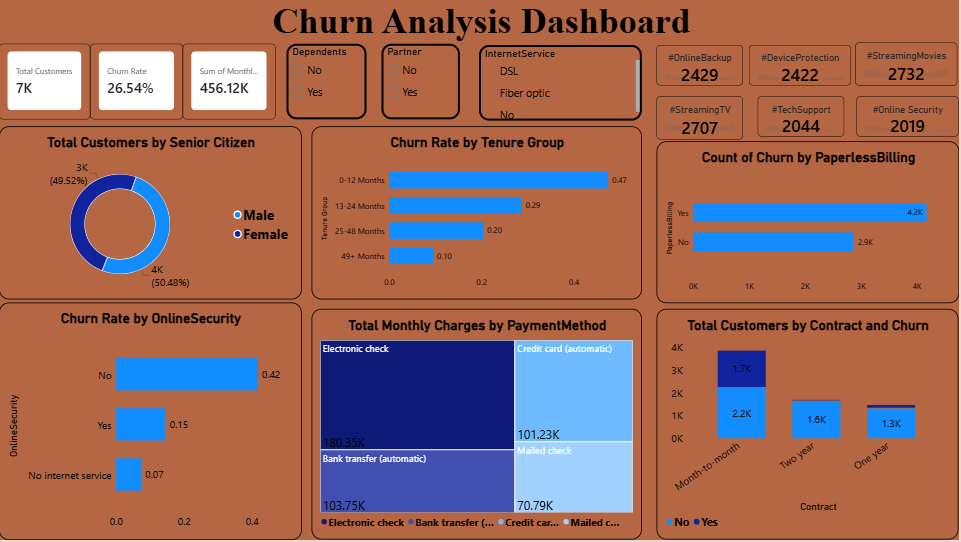

This screenshot's page, from the dashboard's own definition file:
{"tool":"powerbi","page":{"name":"Page 2","canvas":[1920,1080],"ordinal":1},"visuals":[{"type":"textbox","box":[9.2,0,1910.4,88.3],"z":0},{"type":"clusteredBarChart","fields":{"Category":["Telco-Customer-Churn.PaperlessBilling"],"Y":["CountNonNull(Telco-Customer-Churn.Churn)"]},"box":[1314.1,281.6,605.5,323.9],"z":1000},{"type":"columnChart","fields":{"Category":["Telco-Customer-Churn.Contract"],"Series":["Telco-Customer-Churn.Churn"],"Y":["Telco-Customer-Churn.Total Customers"]},"box":[1314.1,618.4,603.7,462],"z":2000},{"type":"barChart","fields":{"Category":["Telco-Customer-Churn.OnlineSecurity"],"Y":["Telco-Customer-Churn.Churn Rate"]},"box":[0,605.5,605.5,474.8],"z":3000},{"type":"donutChart","title":"Total Customers by Senior Citizen","fields":{"Category":["Telco-Customer-Churn.gender"],"Y":["Telco-Customer-Churn.Total Customers"]},"box":[0,252.1,605.5,346],"z":4000},{"type":"slicer","fields":{"Values":["Telco-Customer-Churn.Partner"]},"box":[763.8,88.3,156.4,150.9],"z":5000},{"type":"slicer","fields":{"Values":["Telco-Customer-Churn.InternetService"]},"box":[960.7,90.2,325.8,150.9],"z":6000},{"type":"slicer","fields":{"Values":["Telco-Customer-Churn.Dependents"]},"box":[574.2,88.3,160.1,150.9],"z":7000},{"type":"clusteredBarChart","fields":{"Category":["Telco-Customer-Churn.Tenure Group"],"Y":["Telco-Customer-Churn.Churn Rate"]},"box":[625.8,252.1,660.7,346],"z":8000},{"type":"treemap","fields":{"Group":["Telco-Customer-Churn.PaymentMethod"],"Values":["Telco-Customer-Churn.Total Monthly Charges"]},"box":[625.8,618.4,660.7,462],"z":9000},{"type":"cardVisual","fields":{"Data":["Telco-Customer-Churn.Total Customers"]},"box":[0,88.3,182.2,150.9],"z":10000},{"type":"cardVisual","fields":{"Data":["Sum(Telco-Customer-Churn.MonthlyCharges)"]},"box":[368.1,88.3,185.9,150.9],"z":11000},{"type":"cardVisual","fields":{"Data":["Telco-Customer-Churn.Churn Rate"]},"box":[182.2,88.3,185.9,150.9],"z":12000},{"type":"kpi","title":"#Online Security","fields":{"Indicator":["Telco-Customer-Churn.Total Customers"],"TrendLine":["Telco-Customer-Churn.OnlineSecurity"]},"box":[1715.3,191.4,204.3,81],"z":13000},{"type":"kpi","title":"#StreamingTV","fields":{"Indicator":["Telco-Customer-Churn.Total Customers"],"TrendLine":["Telco-Customer-Churn.StreamingTV"]},"box":[1314.1,191.4,173,86.5],"z":14000},{"type":"kpi","title":"#StreamingMovies","fields":{"Indicator":["Telco-Customer-Churn.Total Customers"],"TrendLine":["Telco-Customer-Churn.StreamingMovies"]},"box":[1713.5,84.7,204.3,86.5],"z":15000},{"type":"kpi","title":"#DeviceProtection","fields":{"Indicator":["Telco-Customer-Churn.Total Customers"],"TrendLine":["Telco-Customer-Churn.DeviceProtection"]},"box":[1500,90.2,204.3,81],"z":16000},{"type":"kpi","title":"#OnlineBackup","fields":{"Indicator":["Telco-Customer-Churn.Total Customers"],"TrendLine":["Telco-Customer-Churn.OnlineBackup"]},"box":[1314.1,90.2,173,81],"z":17000},{"type":"kpi","title":"#TechSupport","fields":{"Indicator":["Telco-Customer-Churn.Total Customers"],"TrendLine":["Telco-Customer-Churn.TechSupport"]},"box":[1516.6,191.4,173,81],"z":18000}]}

Visuals, with their boxes in screenshot pixels (x1, y1, x2, y2), scaled from the page's 1920x1080 canvas onto the 961x542 screenshot:
textbox: x1=5, y1=0, x2=960, y2=44
clusteredBarChart - Telco-Customer-Churn.PaperlessBilling x CountNonNull(Telco-Customer-Churn.Churn): x1=658, y1=141, x2=960, y2=304
columnChart - Telco-Customer-Churn.Contract x Telco-Customer-Churn.Churn: x1=658, y1=310, x2=960, y2=541
barChart - Telco-Customer-Churn.OnlineSecurity x Telco-Customer-Churn.Churn Rate: x1=0, y1=304, x2=303, y2=541
"Total Customers by Senior Citizen" donutChart: x1=0, y1=127, x2=303, y2=300
slicer - Telco-Customer-Churn.Partner: x1=382, y1=44, x2=461, y2=120
slicer - Telco-Customer-Churn.InternetService: x1=481, y1=45, x2=644, y2=121
slicer - Telco-Customer-Churn.Dependents: x1=287, y1=44, x2=368, y2=120
clusteredBarChart - Telco-Customer-Churn.Tenure Group x Telco-Customer-Churn.Churn Rate: x1=313, y1=127, x2=644, y2=300
treemap - Telco-Customer-Churn.PaymentMethod x Telco-Customer-Churn.Total Monthly Charges: x1=313, y1=310, x2=644, y2=541
cardVisual - Telco-Customer-Churn.Total Customers: x1=0, y1=44, x2=91, y2=120
cardVisual - Sum(Telco-Customer-Churn.MonthlyCharges): x1=184, y1=44, x2=277, y2=120
cardVisual - Telco-Customer-Churn.Churn Rate: x1=91, y1=44, x2=184, y2=120
"#Online Security" kpi: x1=859, y1=96, x2=960, y2=137
"#StreamingTV" kpi: x1=658, y1=96, x2=744, y2=139
"#StreamingMovies" kpi: x1=858, y1=43, x2=960, y2=86
"#DeviceProtection" kpi: x1=751, y1=45, x2=853, y2=86
"#OnlineBackup" kpi: x1=658, y1=45, x2=744, y2=86
"#TechSupport" kpi: x1=759, y1=96, x2=846, y2=137
